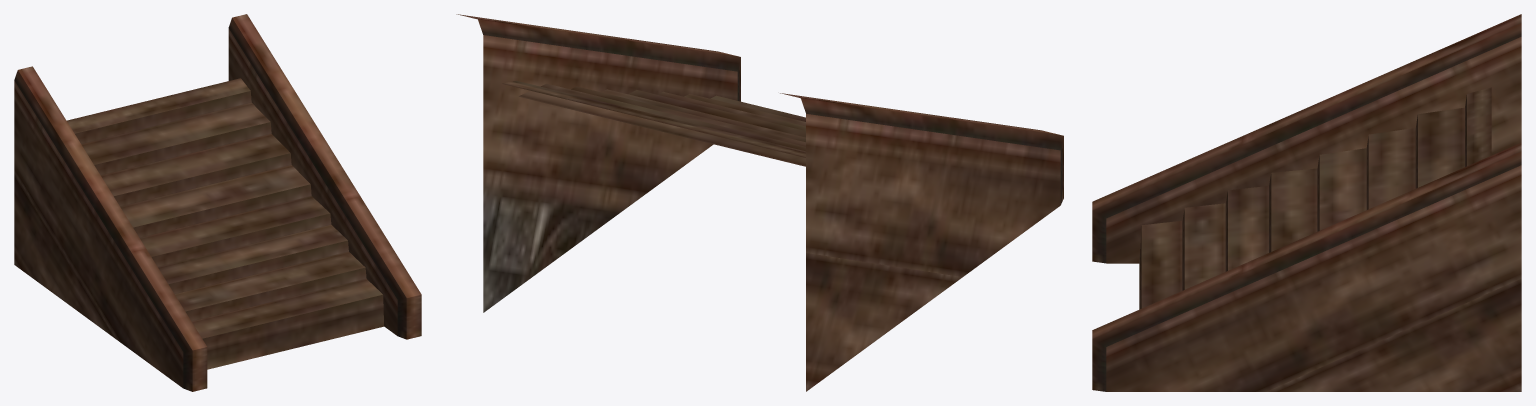
Rendered from o_HouseStairsWoodA-transformed.glb.
3 views of the same model, side by side, from view 1: azimuth 30°, elevation 25°; view 2: azimuth 150°, elevation 25°; view 3: azimuth 270°, elevation 25° (orthographic). The views are drawn at different scales.
Visible parts, largest first — view 1: default; view 2: default; view 3: default.
Boxes of the visible parts, box(x1,y1,x2,y2) form: default: box(14, 14, 421, 391); default: box(456, 14, 1063, 391); default: box(1092, 14, 1521, 391).
Bounding box in the file's own units: 2.31 × 1.81 × 2.95.
1 material, 1 textured.
